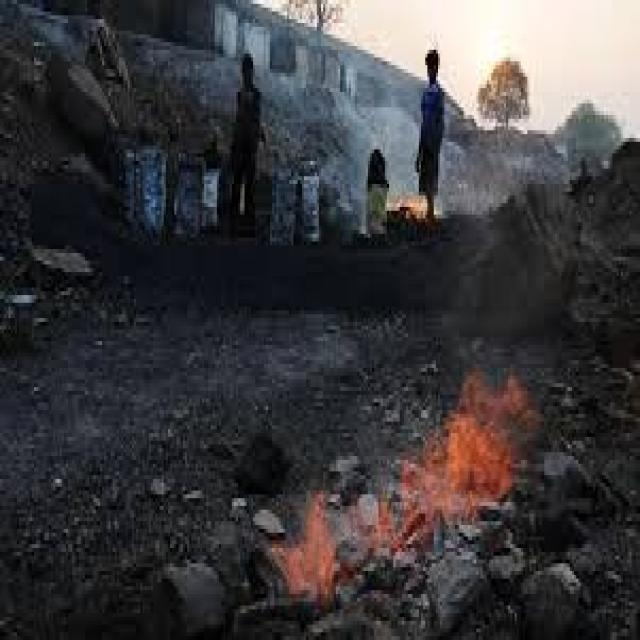fire: (401, 371, 533, 533), (273, 490, 334, 604)
